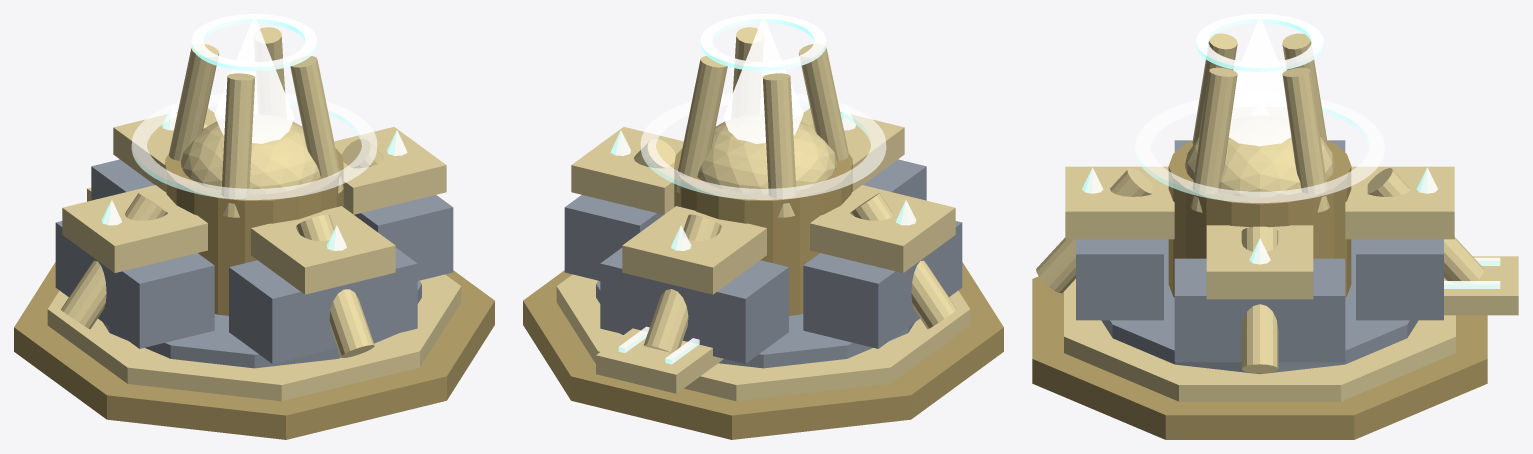
Rendered from helias_nexus.glb.
3 views of the same model, side by side, from view 1: azimuth 30°, elevation 25°; view 2: azimuth 150°, elevation 25°; view 3: azimuth 270°, elevation 25° (orthographic).
Visible parts, largest first — view 1: foundation_000, plinth_001, hq_wing_015, hq_wing_011, central_keep_019, wing_roof_012, wing_roof_016, wing_roof_004, keep_dome_020, nexus_orbit_026, hq_wing_003, floor_002 (+11 smaller); view 2: foundation_000, plinth_001, hq_wing_007, hq_wing_011, central_keep_019, wing_roof_012, wing_roof_008, wing_roof_004, keep_dome_020, nexus_orbit_026, hq_wing_003, entrance_ramp_028 (+12 smaller); view 3: foundation_000, plinth_001, hq_wing_003, central_keep_019, hq_wing_007, hq_wing_015, wing_roof_004, wing_roof_016, wing_roof_008, floor_002, nexus_orbit_026, nexus_core_021 (+10 smaller).
Boxes of the visible parts, x1=… form: foundation_000: x1=14, y1=262, x2=494, y2=439; plinth_001: x1=47, y1=274, x2=461, y2=401; hq_wing_015: x1=229, y1=248, x2=417, y2=363; hq_wing_011: x1=55, y1=221, x2=214, y2=348; central_keep_019: x1=165, y1=148, x2=343, y2=315; wing_roof_012: x1=62, y1=185, x2=207, y2=272; wing_roof_016: x1=251, y1=206, x2=395, y2=294; wing_roof_004: x1=334, y1=127, x2=446, y2=214; keep_dome_020: x1=181, y1=121, x2=320, y2=194; nexus_orbit_026: x1=131, y1=93, x2=377, y2=199; hq_wing_003: x1=354, y1=195, x2=453, y2=280; floor_002: x1=103, y1=280, x2=421, y2=368; foundation_000: x1=523, y1=262, x2=1003, y2=439; plinth_001: x1=556, y1=274, x2=970, y2=401; hq_wing_007: x1=600, y1=248, x2=788, y2=363; hq_wing_011: x1=803, y1=221, x2=962, y2=348; central_keep_019: x1=674, y1=148, x2=852, y2=315; wing_roof_012: x1=810, y1=185, x2=955, y2=272; wing_roof_008: x1=622, y1=206, x2=766, y2=294; wing_roof_004: x1=571, y1=127, x2=683, y2=214; keep_dome_020: x1=697, y1=121, x2=836, y2=194; nexus_orbit_026: x1=640, y1=93, x2=886, y2=199; hq_wing_003: x1=564, y1=195, x2=663, y2=280; entrance_ramp_028: x1=596, y1=328, x2=723, y2=393; foundation_000: x1=1032, y1=276, x2=1487, y2=439; plinth_001: x1=1064, y1=279, x2=1455, y2=401; hq_wing_003: x1=1174, y1=258, x2=1345, y2=362; central_keep_019: x1=1168, y1=140, x2=1351, y2=297; hq_wing_007: x1=1356, y1=239, x2=1443, y2=320; hq_wing_015: x1=1076, y1=239, x2=1163, y2=320; wing_roof_004: x1=1206, y1=225, x2=1313, y2=299; wing_roof_016: x1=1065, y1=166, x2=1174, y2=239; wing_roof_008: x1=1345, y1=166, x2=1454, y2=239; floor_002: x1=1101, y1=239, x2=1418, y2=374; nexus_orbit_026: x1=1135, y1=99, x2=1384, y2=202; nexus_core_021: x1=1228, y1=16, x2=1291, y2=146.
Size of the model in its own units: 3.75 by 2.98 by 4.
